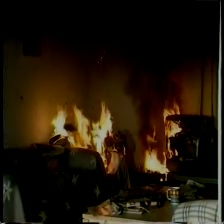fire: (52, 98, 128, 154), (144, 108, 183, 175)
smoke: (88, 7, 211, 101)
